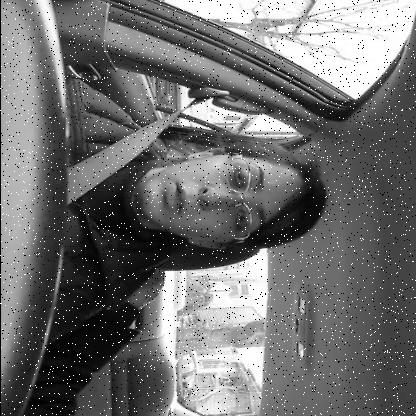seatbelt: (67, 82, 333, 254)
